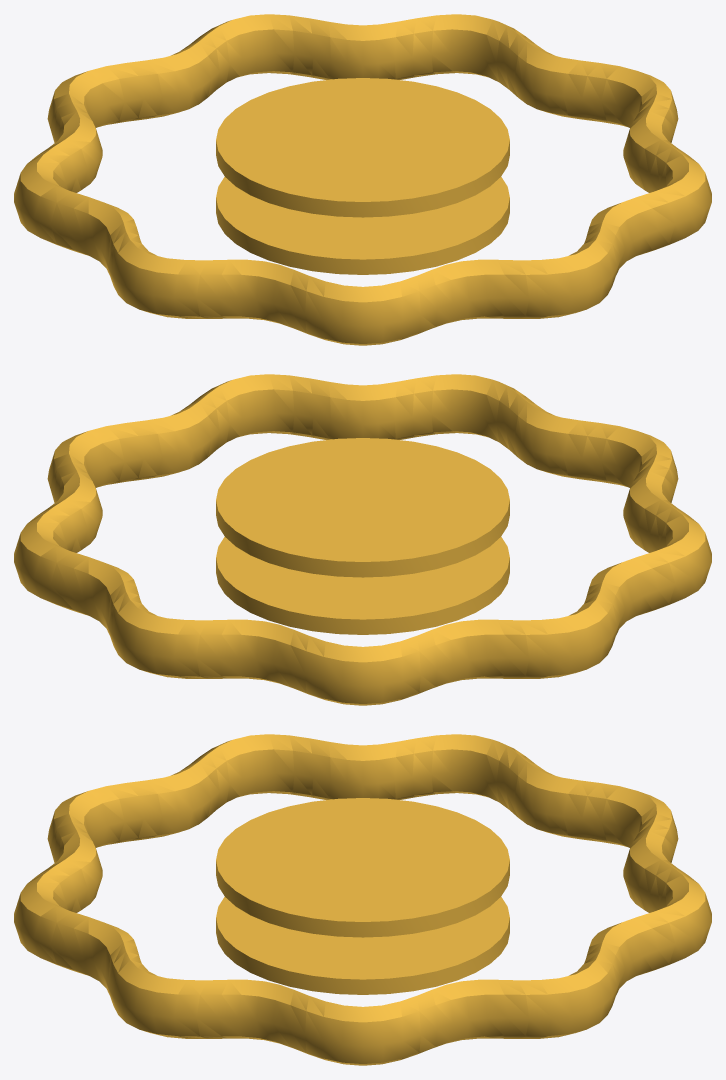
Rendered from GuardRim.obj.
The picture shows the model from 3 angles, top to bottom: view 1: azimuth 30°, elevation 25°; view 2: azimuth 150°, elevation 25°; view 3: azimuth 270°, elevation 25°; orthographic projection.
Visible parts, largest first — view 1: GuardRim; view 2: GuardRim; view 3: GuardRim.
Part boxes in pixels (bbox=[...]): GuardRim: bbox=[14, 14, 711, 345]; GuardRim: bbox=[14, 374, 711, 705]; GuardRim: bbox=[14, 734, 711, 1065].
Bounding box in the file's own units: 0.8932 × 0.104 × 0.9024.
